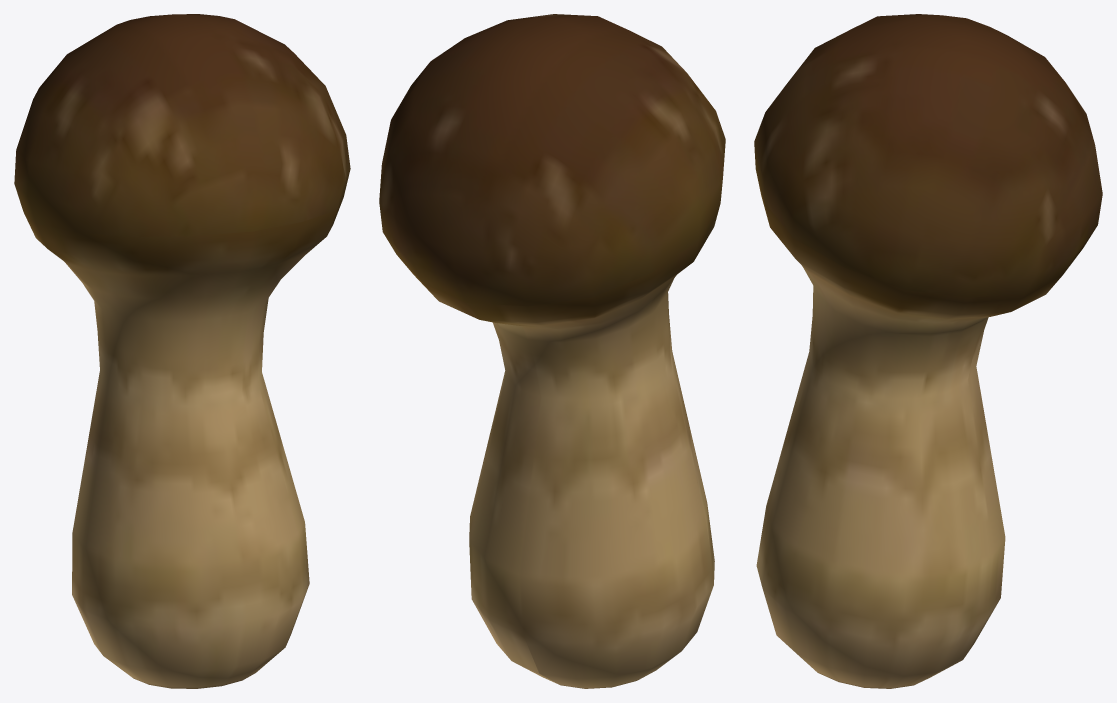
The model's file is elegant-mushroom.glb.
3 renders of one model, left to right at view 1: azimuth 30°, elevation 25°; view 2: azimuth 150°, elevation 25°; view 3: azimuth 270°, elevation 25°, orthographic. The views are drawn at different scales.
Size of the model in its own units: 2.41 by 4.86 by 2.39.
Materials: 1 (1 with a texture image).
